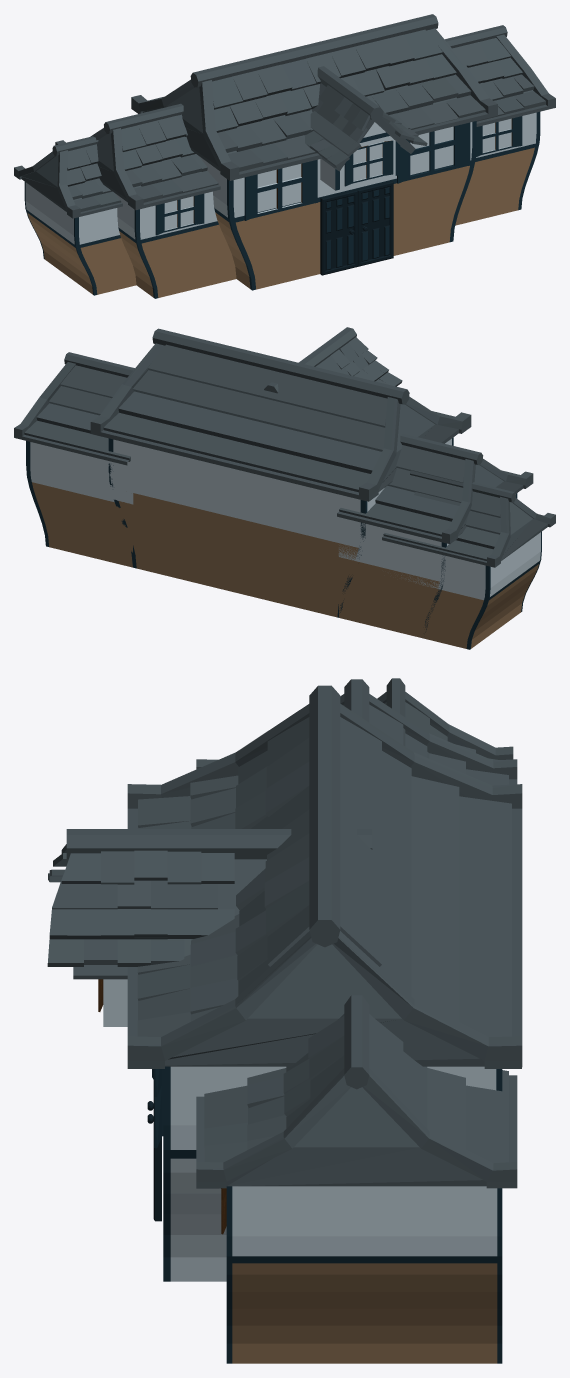
Rendered from pub.fbx.
The picture shows the model from 3 angles, top to bottom: view 1: azimuth 30°, elevation 25°; view 2: azimuth 150°, elevation 25°; view 3: azimuth 270°, elevation 25°; orthographic projection. The views are drawn at different scales.
Visible parts, largest first — view 1: group3_roof1; view 2: group3_roof1; view 3: group3_roof1.
Part boxes in pixels (x1,y1,x2,y2): group3_roof1: (14,14,555,298); group3_roof1: (14,327,555,649); group3_roof1: (47,678,522,1363).
Size of the model in its own units: 18.91 by 7.48 by 8.4.
